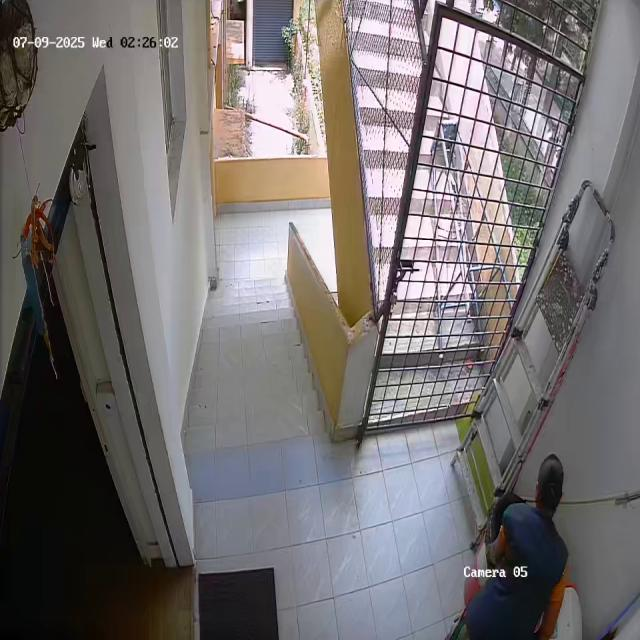person: (492, 449, 576, 640)
